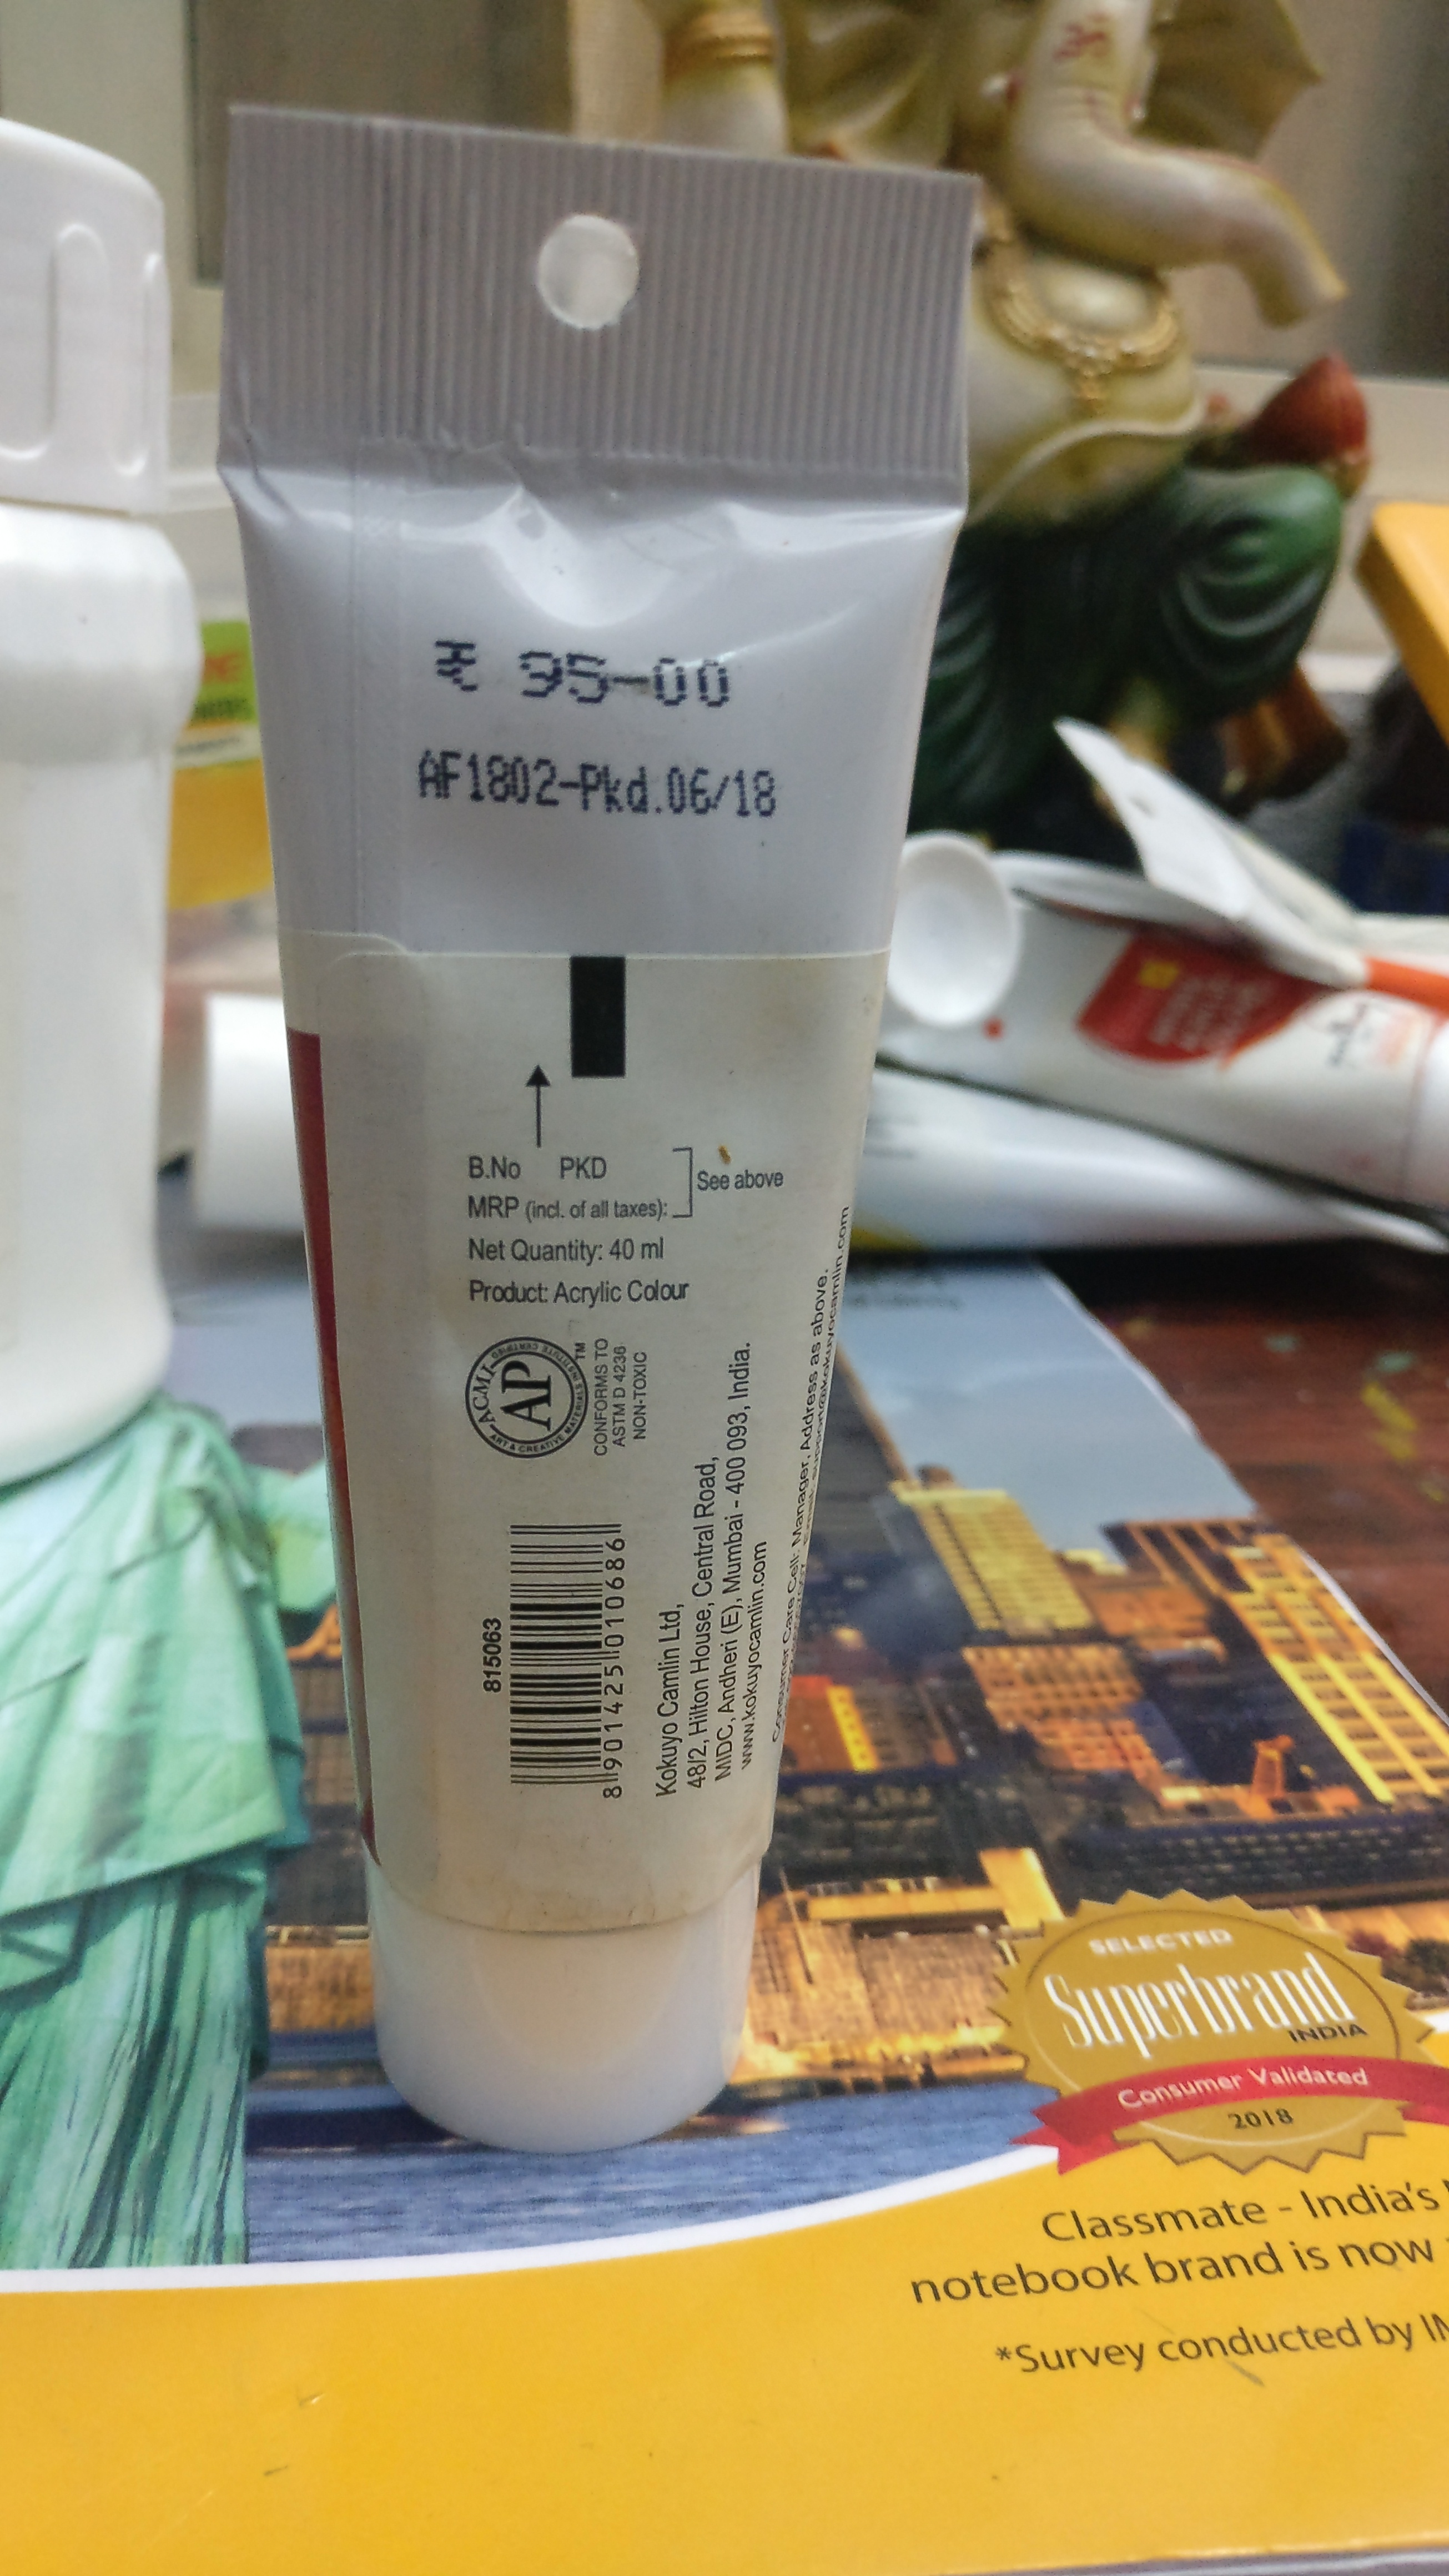barcode: (471, 1511, 658, 1835)
